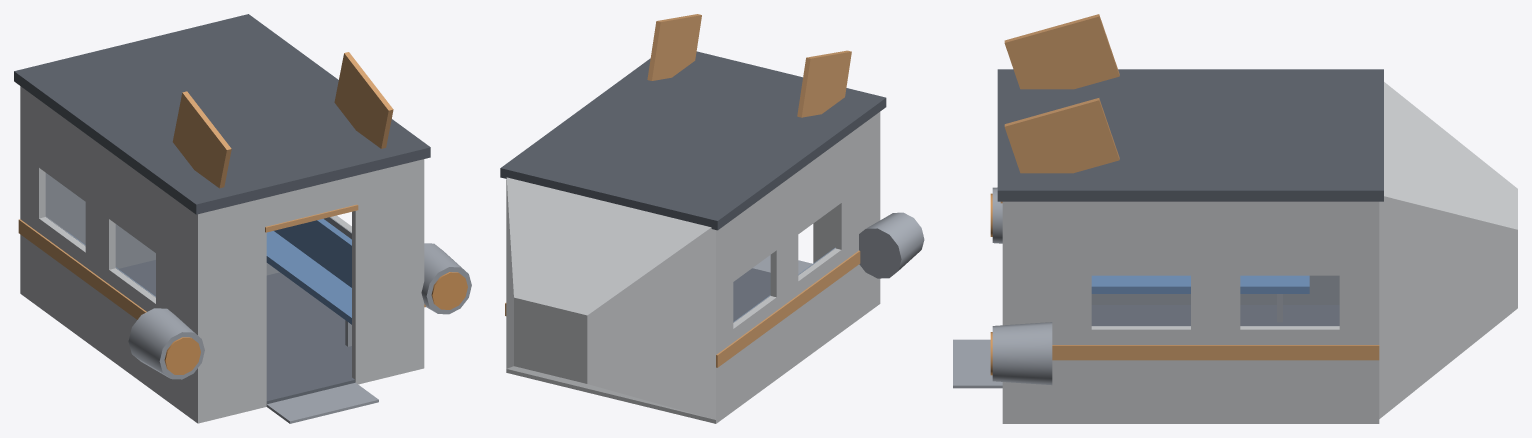
File: shuttle.glb
3 views of the same model, side by side, from view 1: azimuth 30°, elevation 25°; view 2: azimuth 150°, elevation 25°; view 3: azimuth 270°, elevation 25° (orthographic). The views are drawn at different scales.
Parts seen in each view (by area): view 1: shuttle; view 2: shuttle; view 3: shuttle.
Part boxes in pixels (<box>): shuttle: <box>14,14,471,423</box>; shuttle: <box>500,14,924,423</box>; shuttle: <box>953,14,1517,423</box>.
Size of the model in its own units: 3.94 by 3.43 by 5.7.
